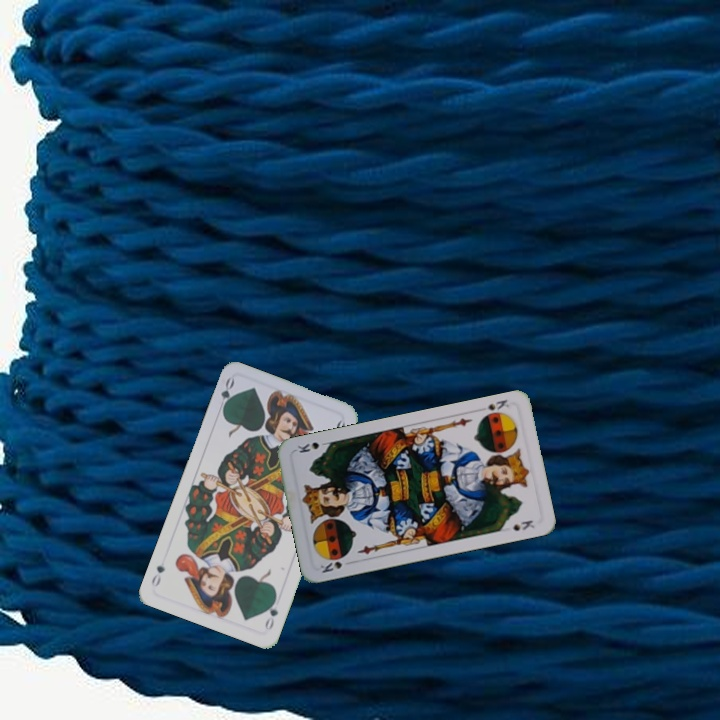GO: (214, 374, 237, 415), (261, 593, 281, 632)
SK: (474, 395, 512, 414), (316, 557, 345, 576)
